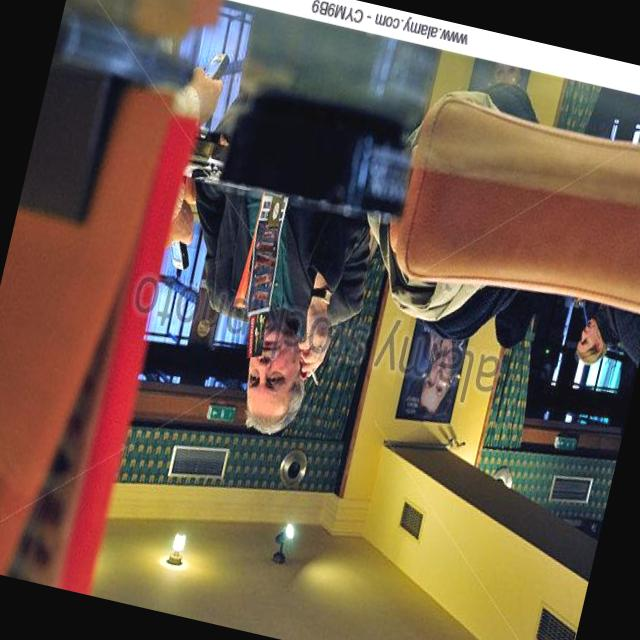smoke: (299, 356, 329, 399)
